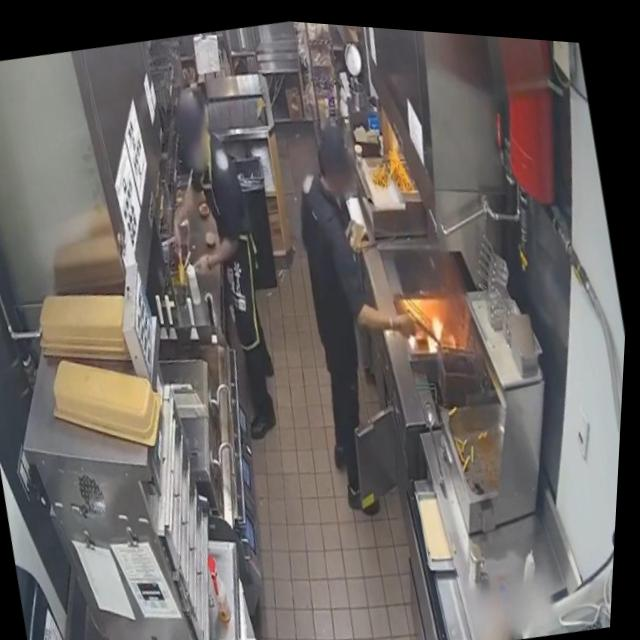fire: (422, 304, 457, 347)
